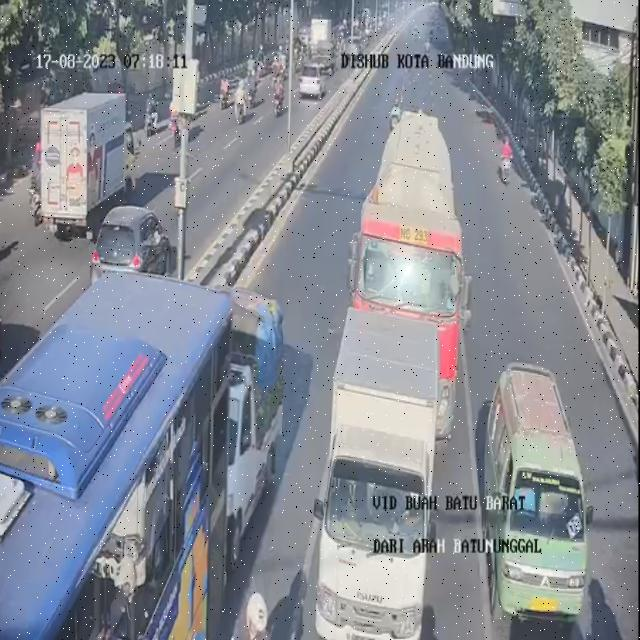bus: (0, 267, 225, 639)
cars: (318, 305, 444, 640), (474, 358, 590, 636), (215, 292, 282, 554)
motorcycle: (496, 131, 518, 184), (391, 95, 407, 127)
truck: (351, 106, 476, 328)
